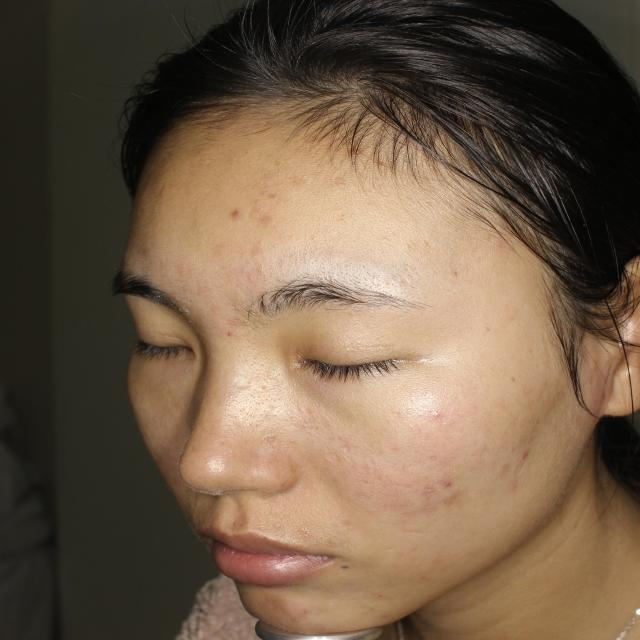acne: (442, 471, 473, 506), (412, 476, 440, 509), (251, 207, 282, 234), (216, 206, 248, 226), (287, 602, 316, 624), (517, 444, 536, 469), (495, 454, 511, 479)
